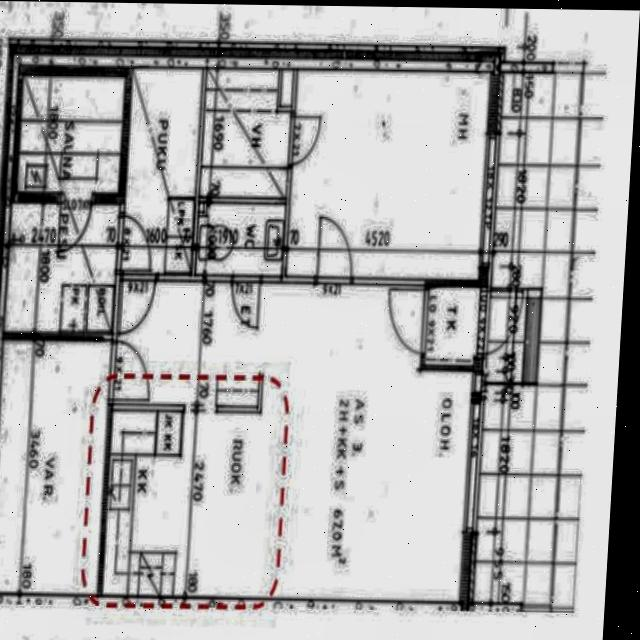room: (104, 276, 478, 599), (288, 64, 489, 284), (0, 337, 110, 595), (195, 65, 293, 277), (122, 66, 201, 273), (6, 199, 118, 336), (18, 72, 124, 196)
